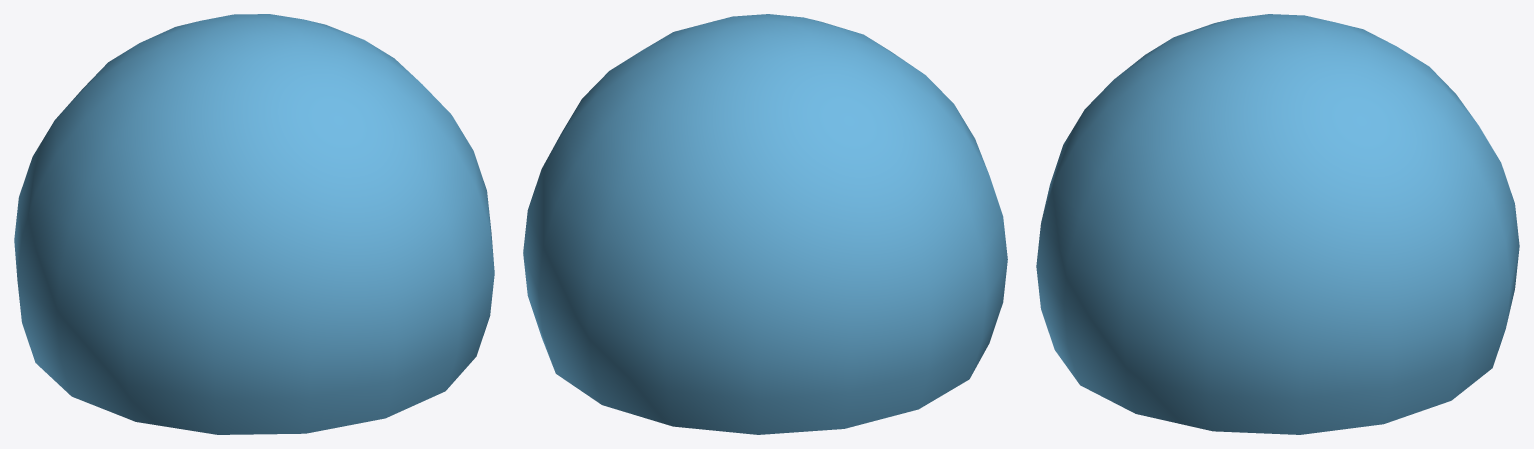
The model's file is SkyBoxDust.fbx.
The picture shows the model from 3 angles, left to right: view 1: azimuth 30°, elevation 25°; view 2: azimuth 150°, elevation 25°; view 3: azimuth 270°, elevation 25°; orthographic projection.
Parts seen in each view (by area): view 1: Sphere; view 2: Sphere; view 3: Sphere.
Part boxes in pixels (left/top/right/bottom): Sphere: left=14, top=14, right=494, bottom=434; Sphere: left=523, top=14, right=1007, bottom=434; Sphere: left=1036, top=14, right=1519, bottom=434.
Size of the model in its own units: 55222 by 38364 by 55222.
